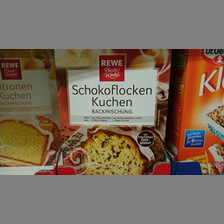cake: (53, 47, 172, 175), (1, 52, 54, 169), (177, 49, 224, 164)
